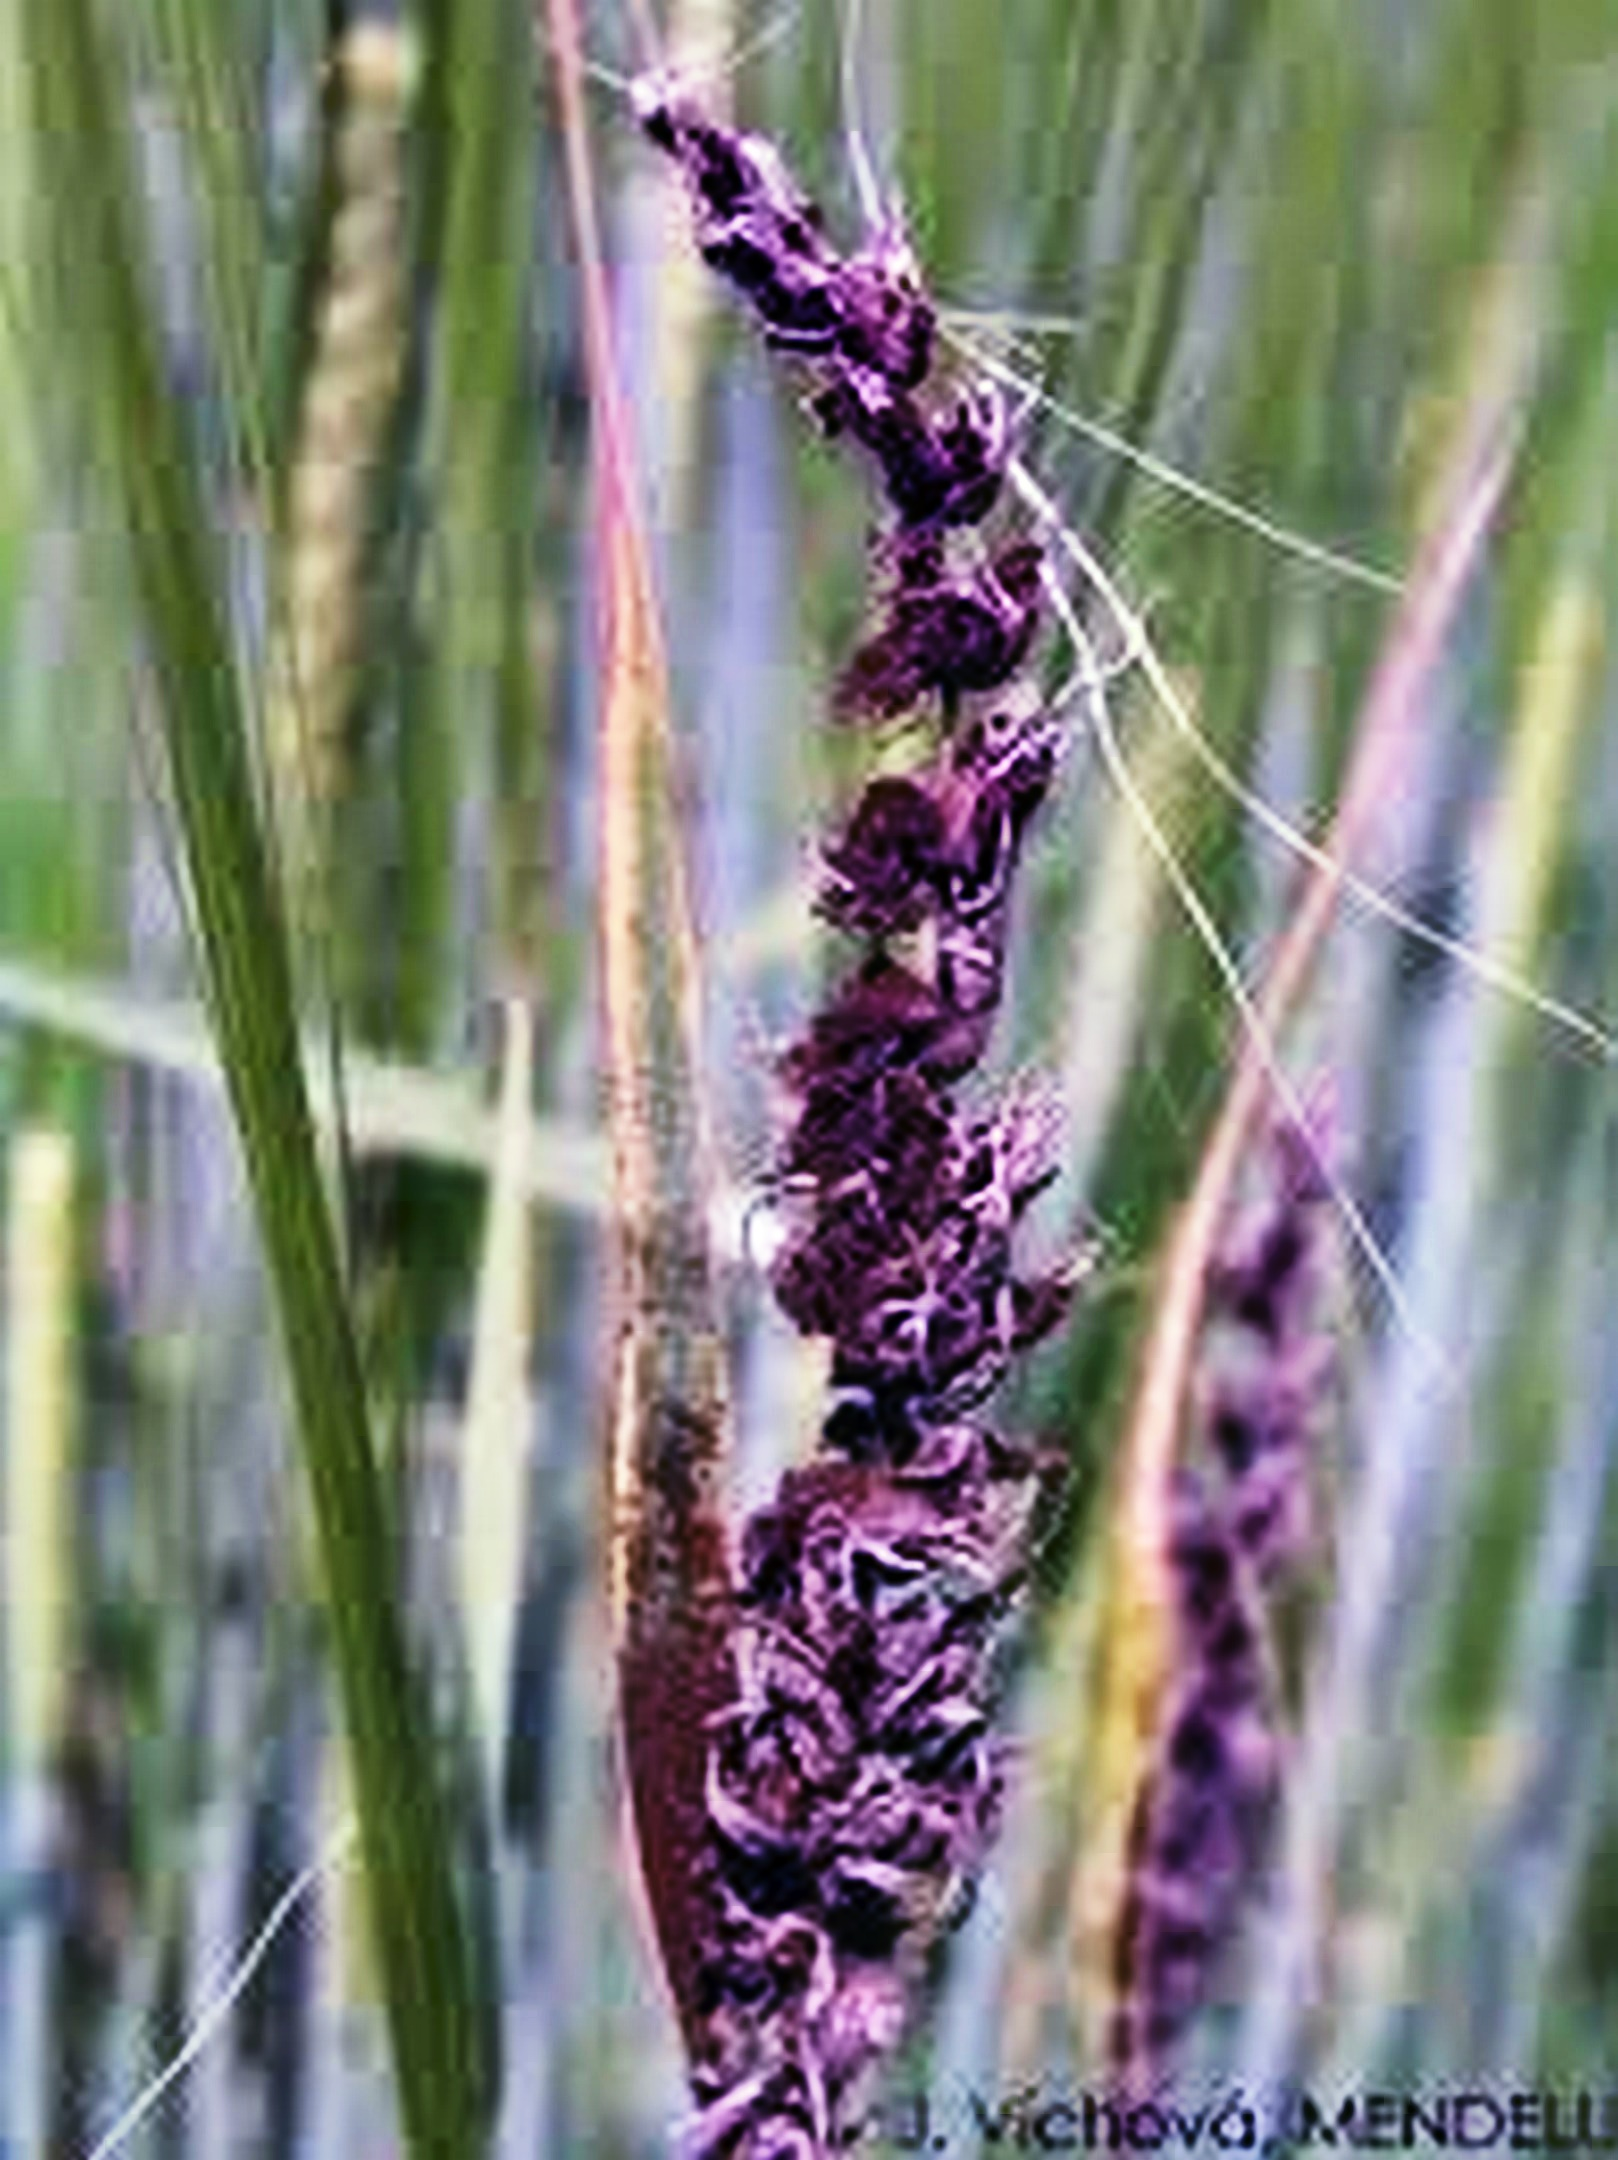Wheat Loose Smut: (593, 70, 1047, 1961)
